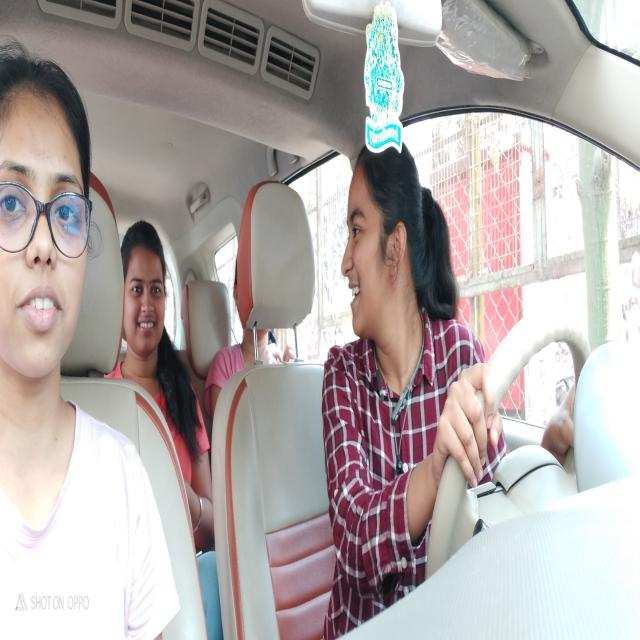LeftRight: (342, 138, 429, 354)
person: (0, 41, 97, 399), (121, 213, 172, 356)
talking: (348, 272, 362, 315)
